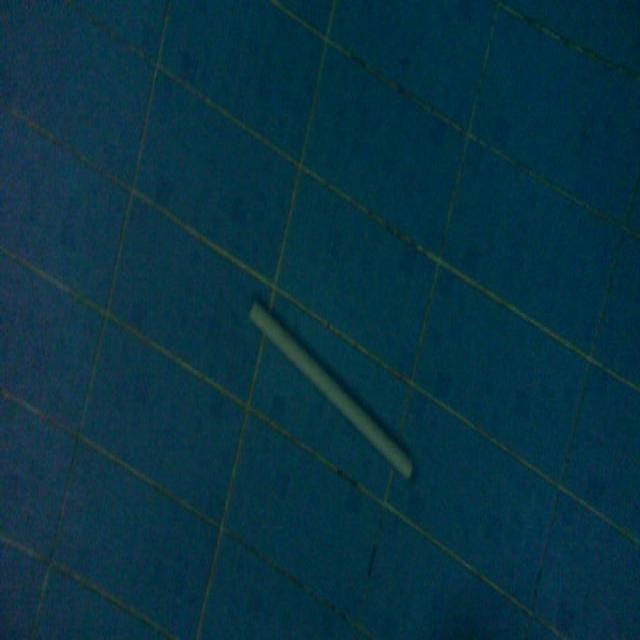Cube: (247, 294, 415, 484)
